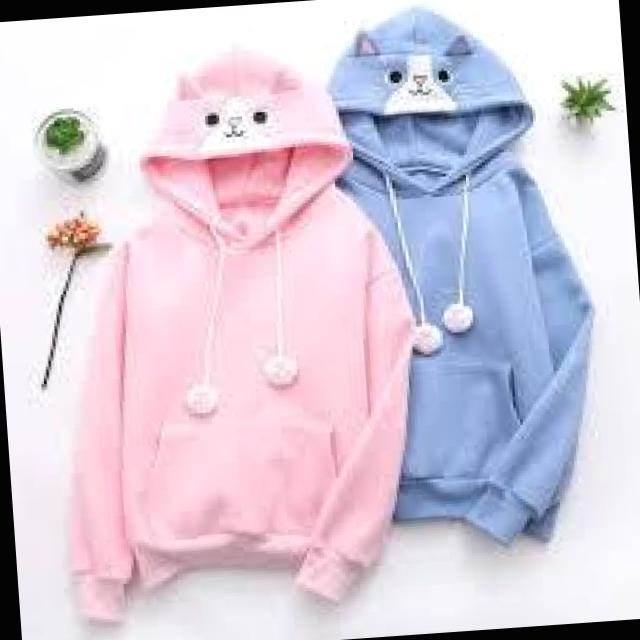sweater: (55, 19, 397, 591), (312, 2, 604, 545)
